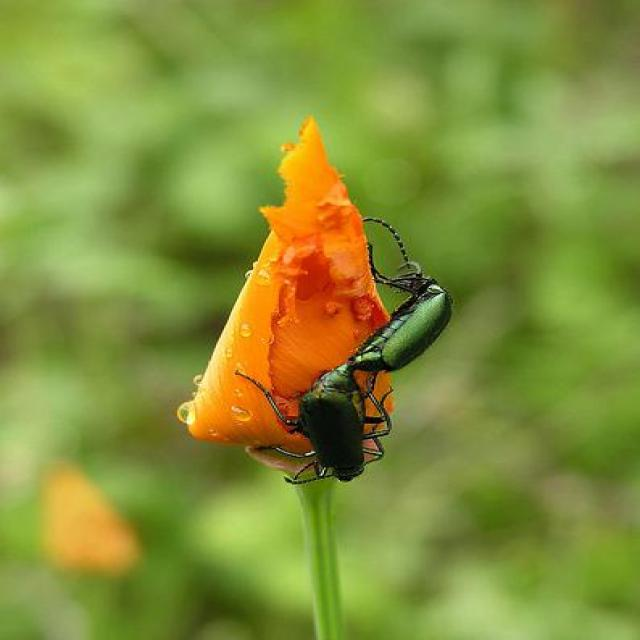BlisterBeetle-Adult-: (255, 359, 413, 487), (347, 214, 451, 370)
